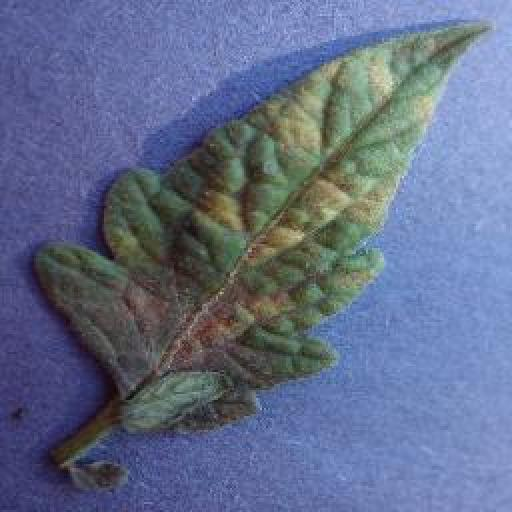Leaf Mold: (32, 17, 491, 435)
